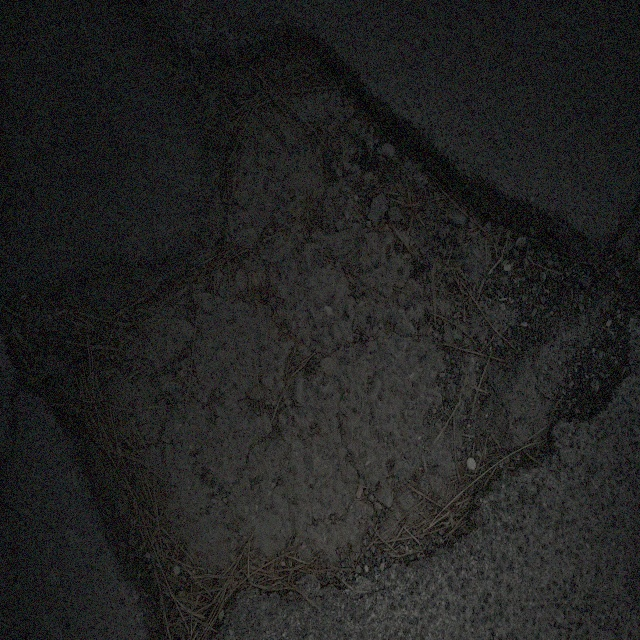pothole: (45, 25, 622, 594)
